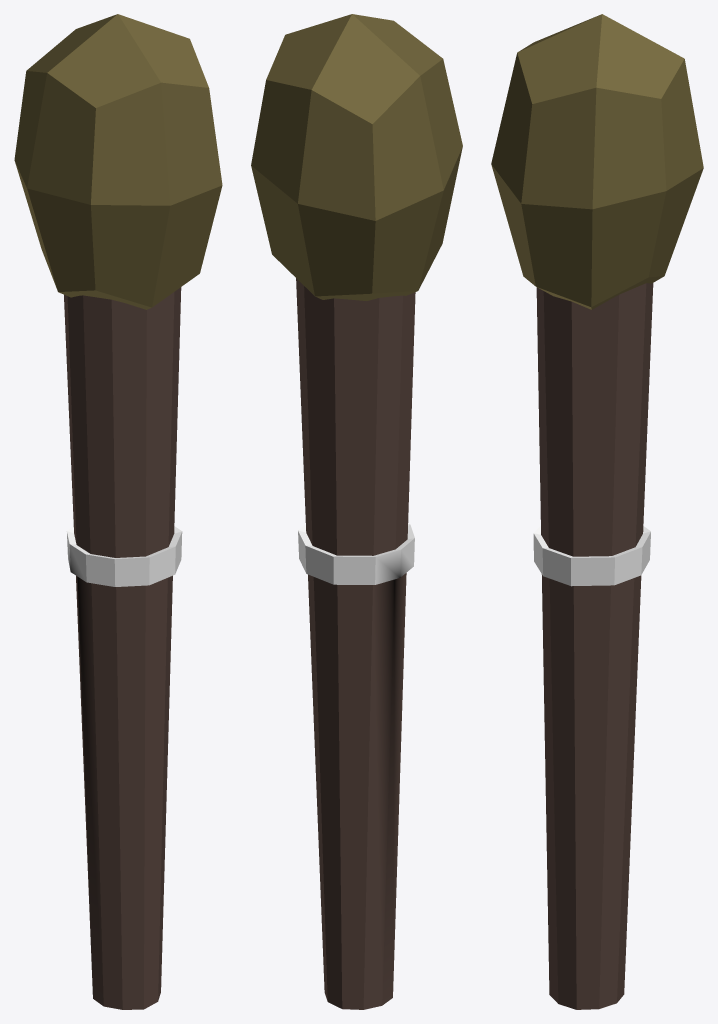
Rendered from torch.fbx.
The picture shows the model from 3 angles, left to right: view 1: azimuth 30°, elevation 25°; view 2: azimuth 150°, elevation 25°; view 3: azimuth 270°, elevation 25°; orthographic projection.
Visible parts, largest first — view 1: torch; view 2: torch; view 3: torch.
Boxes of the visible parts, x1,y1,x2,y2 form: torch: [14, 14, 222, 1009]; torch: [251, 14, 462, 1009]; torch: [491, 14, 703, 1009].
Size of the model in its own units: 12.15 by 62.33 by 12.24.
